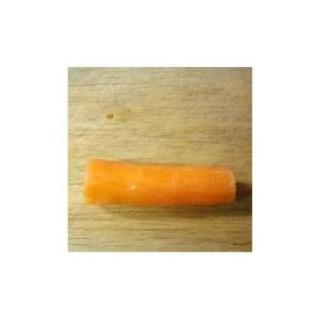carrot: (72, 148, 244, 224)
